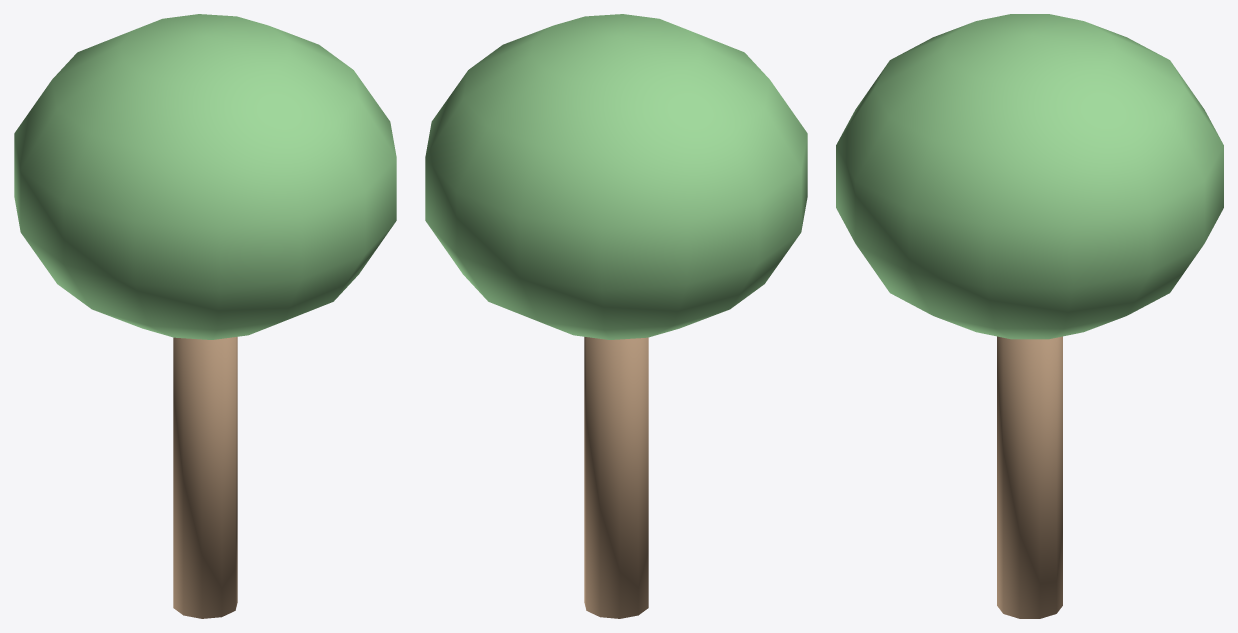
File: cozy_tree_fruit_A.glb
3 renders of one model, left to right at view 1: azimuth 30°, elevation 25°; view 2: azimuth 150°, elevation 25°; view 3: azimuth 270°, elevation 25°, orthographic.
Parts seen in each view (by area): view 1: Canopy, Trunk; view 2: Canopy, Trunk; view 3: Canopy, Trunk.
Part boxes in pixels (bbox=[...]): Canopy: bbox=[14, 14, 396, 339]; Trunk: bbox=[173, 337, 237, 618]; Canopy: bbox=[425, 14, 807, 339]; Trunk: bbox=[584, 337, 648, 618]; Canopy: bbox=[836, 14, 1223, 339]; Trunk: bbox=[997, 336, 1062, 618].
Bounding box in the file's own units: 0.9182 × 1.53 × 0.9418.
